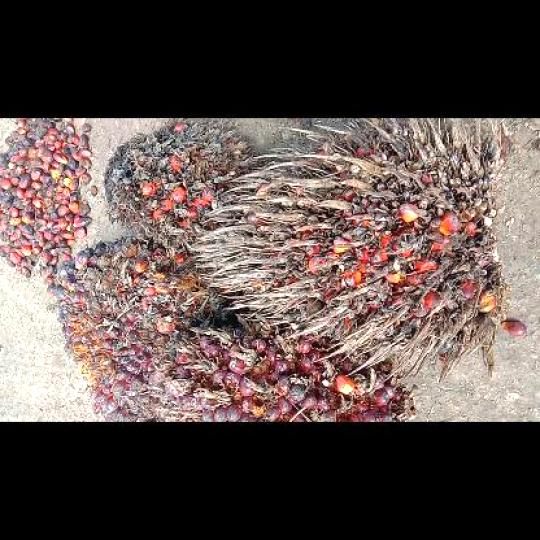masak: (52, 236, 228, 421), (165, 322, 411, 420)
terlalu masak: (189, 118, 507, 383), (103, 120, 255, 250)
